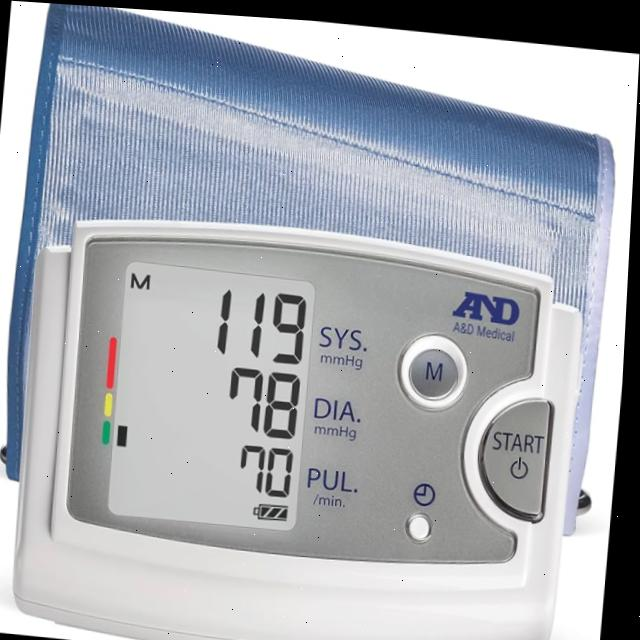dia: (220, 359, 308, 443)
pul: (233, 433, 302, 493)
ssd: (112, 256, 318, 529)
sys: (204, 275, 320, 364)
